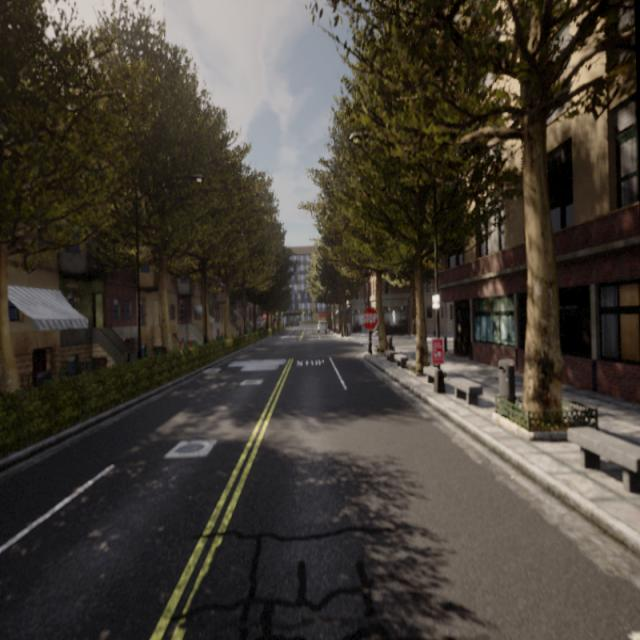stop sign: (360, 305, 379, 330)
